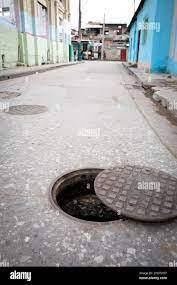open manhole-not overflowing-: (41, 152, 177, 237)
